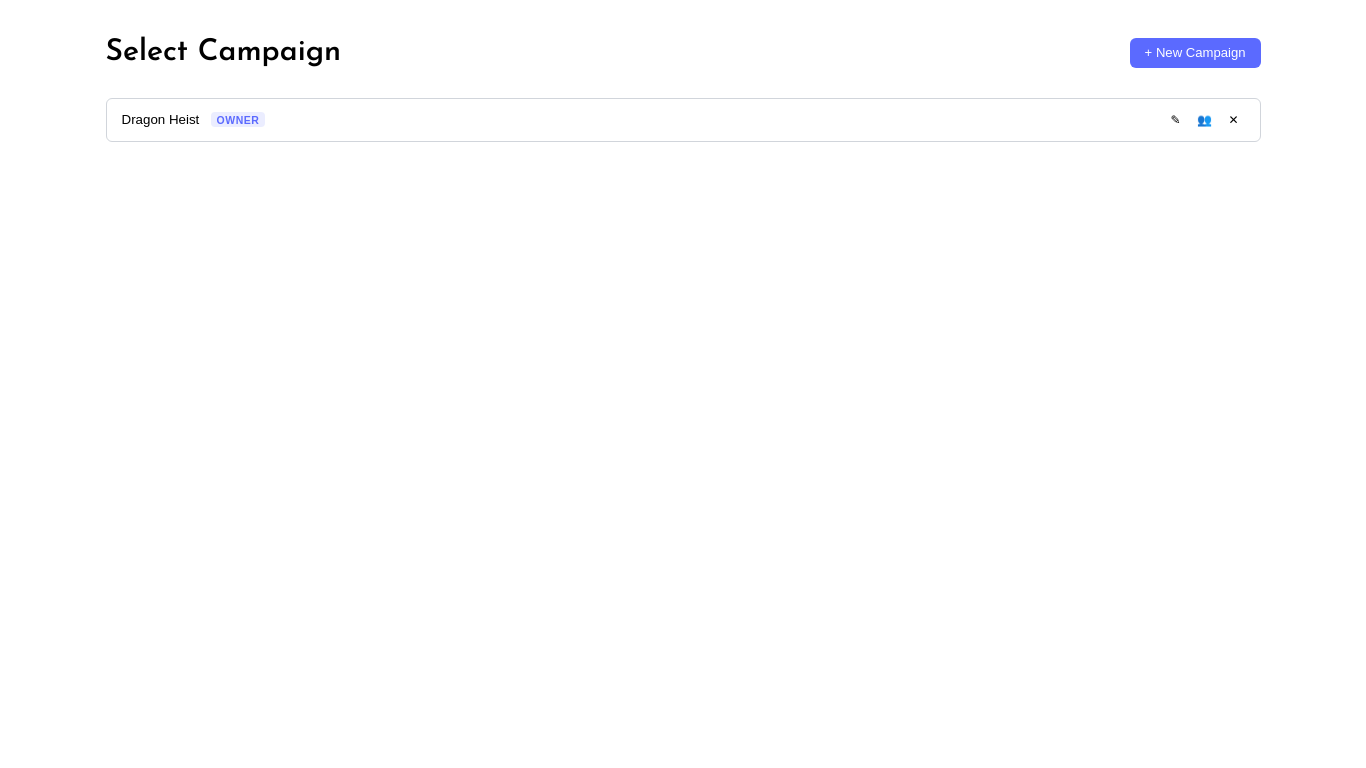
Test: manage-members icon visible for an owner, opens modal with Invite a Player
Click the button titled "Manage members" at [1204, 120], box x1=1191 y1=110 x2=1218 y2=129
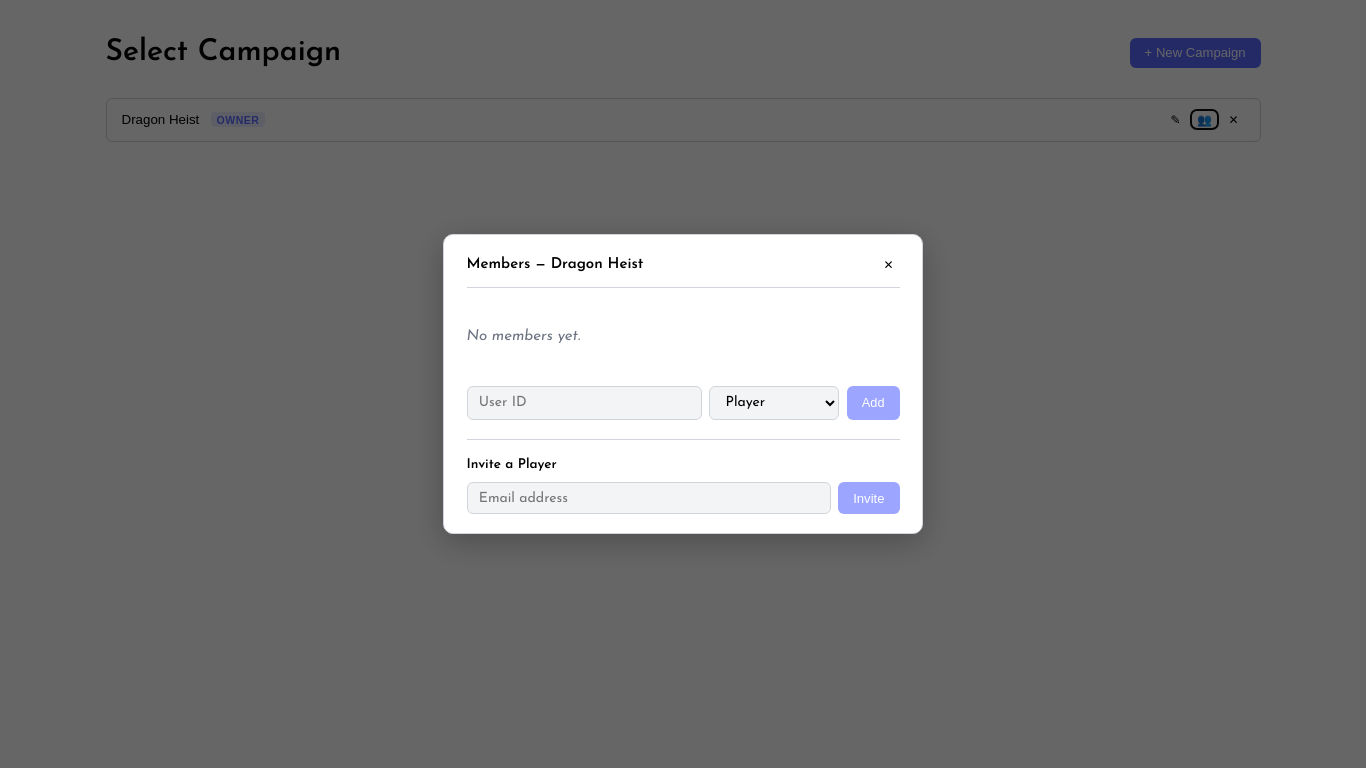
Expected: the heading "Invite a Player" is shown, x1=466 y1=458 x2=557 y2=471
